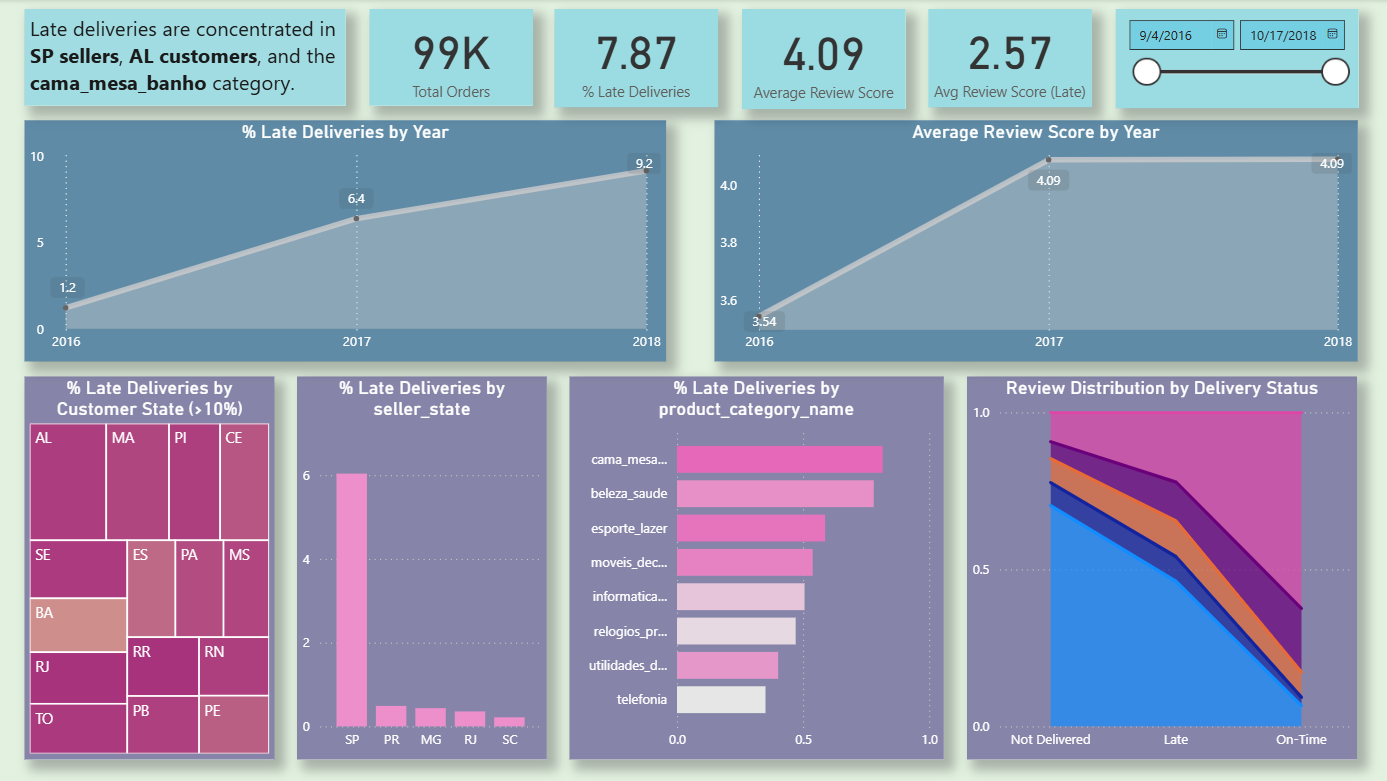

This screenshot's page, from the dashboard's own definition file:
{"tool":"powerbi","page":{"name":"Basic Insights","canvas":[1280,720],"ordinal":0},"visuals":[{"type":"card","fields":{"Values":["orders.Total Orders"]},"box":[342.3,9.7,150.3,89],"z":0},{"type":"card","fields":{"Values":["reviews.Average Review Score"]},"box":[684.5,9.7,150.3,91.8],"z":1000},{"type":"card","fields":{"Values":["orders.% Late Deliveries"]},"box":[512,9.7,150.3,90.4],"z":2000},{"type":"card","fields":{"Values":["reviews.Avg Review Score (Late)"]},"box":[855.7,9.7,150.3,90.4],"z":3000},{"type":"lineChart","fields":{"Y":["orders.% Late Deliveries"],"Category":["orders.order_purchase_timestamp.Variation.Date Hierarchy.Year","orders.order_purchase_timestamp.Variation.Date Hierarchy.Month","orders.order_purchase_timestamp.Variation.Date Hierarchy.Day"]},"box":[25.3,111.5,589.7,221.8],"z":4000},{"type":"lineChart","fields":{"Category":["orders.order_purchase_timestamp.Variation.Date Hierarchy.Year","orders.order_purchase_timestamp.Variation.Date Hierarchy.Month","orders.order_purchase_timestamp.Variation.Date Hierarchy.Day"],"Y":["reviews.Average Review Score"]},"box":[659.8,111.5,590.8,221.8],"z":5000},{"type":"treemap","title":"% Late Deliveries by Customer State (>10%)","fields":{"Group":["customers.customer_state"],"Values":["orders.% Late Deliveries"]},"box":[25.3,347.1,229.9,351.7],"z":6000},{"type":"clusteredColumnChart","fields":{"Y":["orders.% Late Deliveries"],"Category":["sellers.seller_state"]},"box":[275.9,347.1,229.9,351.7],"z":7000},{"type":"barChart","fields":{"Category":["products.product_category_name"],"Y":["orders.% Late Deliveries"]},"box":[526.4,347.1,343.7,351.7],"z":8000},{"type":"stackedAreaChart","title":"Review Distribution by Delivery Status","fields":{"Category":["orders.Delivery Status"],"Y":["reviews.1 Star %","reviews.2 Star %","reviews.3 Star %","reviews.4 Star %","reviews.5 Star %"]},"box":[892,347.1,358.6,351.7],"z":9000},{"type":"slicer","fields":{"Values":["orders.order_purchase_timestamp"]},"box":[1027.6,9.2,223,90.8],"z":10000},{"type":"textbox","box":[25,9.7,295,89],"z":11000}]}

Visuals, with their boxes in screenshot pixels (x1, y1, x2, y2), scaled from the page's 1280x720 canvas onto the 1387x781 screenshot:
card - orders.Total Orders: (left=371, top=11, right=534, bottom=107)
card - reviews.Average Review Score: (left=742, top=11, right=905, bottom=110)
card - orders.% Late Deliveries: (left=555, top=11, right=718, bottom=109)
card - reviews.Avg Review Score (Late): (left=927, top=11, right=1090, bottom=109)
lineChart - orders.% Late Deliveries x orders.order_purchase_timestamp.Variation.Date Hierarchy.Year: (left=27, top=121, right=666, bottom=362)
lineChart - orders.order_purchase_timestamp.Variation.Date Hierarchy.Year x orders.order_purchase_timestamp.Variation.Date Hierarchy.Month: (left=715, top=121, right=1355, bottom=362)
"% Late Deliveries by Customer State (>10%)" treemap: (left=27, top=377, right=277, bottom=758)
clusteredColumnChart - orders.% Late Deliveries x sellers.seller_state: (left=299, top=377, right=548, bottom=758)
barChart - products.product_category_name x orders.% Late Deliveries: (left=570, top=377, right=943, bottom=758)
"Review Distribution by Delivery Status" stackedAreaChart: (left=967, top=377, right=1355, bottom=758)
slicer - orders.order_purchase_timestamp: (left=1114, top=10, right=1355, bottom=108)
textbox: (left=27, top=11, right=347, bottom=107)
